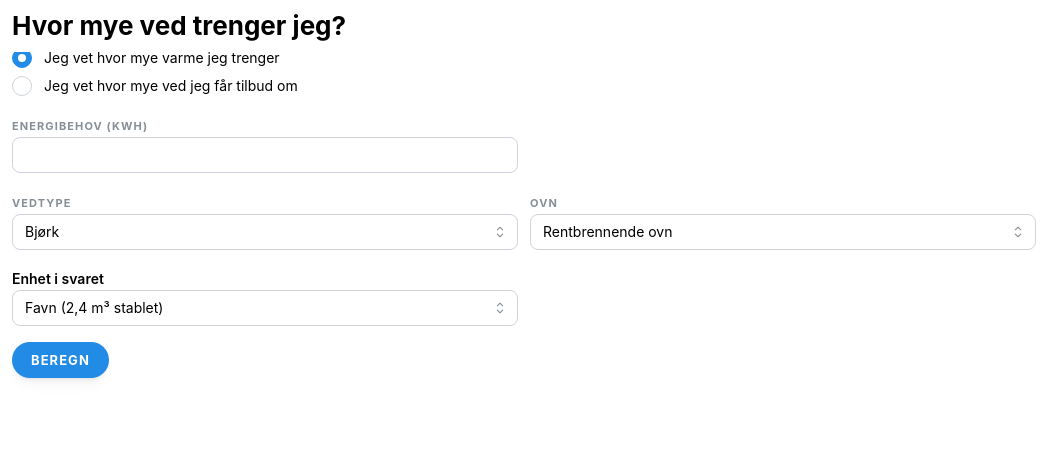
Test: NeedCalculator › names the energy field in the error on the energy tab, and the amount on the volume tab
This screenshot has width=1048, height=467.
Step 1. Click the button "Beregn" → {"x": 60, "y": 360}, box [12,342,109,378]
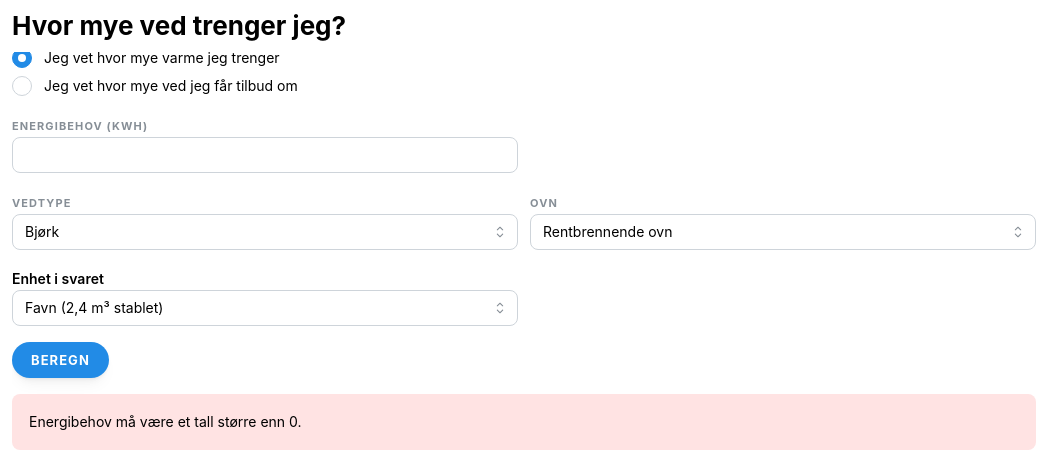
Check: the text "Energibehov må være et tall større enn 0." is shown, box [29,413,302,430]
Step 2. Click the radio button labelled "Jeg vet hvor mye ved jeg får tilbud om" → {"x": 22, "y": 86}, box [12,76,32,96]
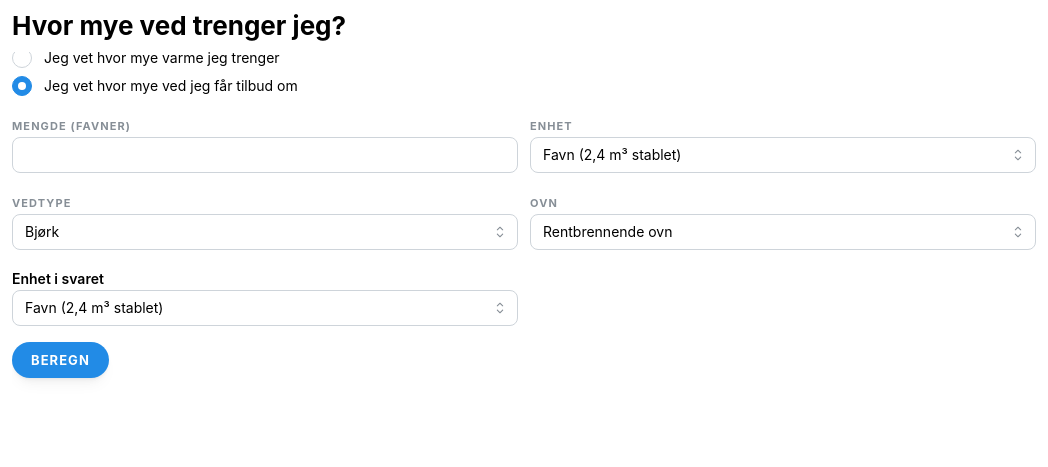
Step 3. Click the button "Beregn" → {"x": 60, "y": 360}, box [12,342,109,378]
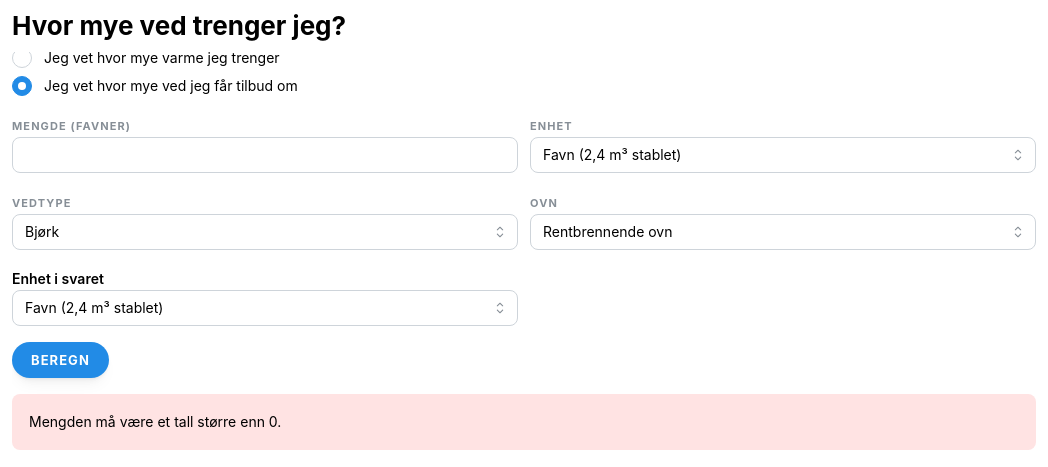
Check: the text "Mengden må være et tall større enn 0." is shown, box [29,413,281,430]
